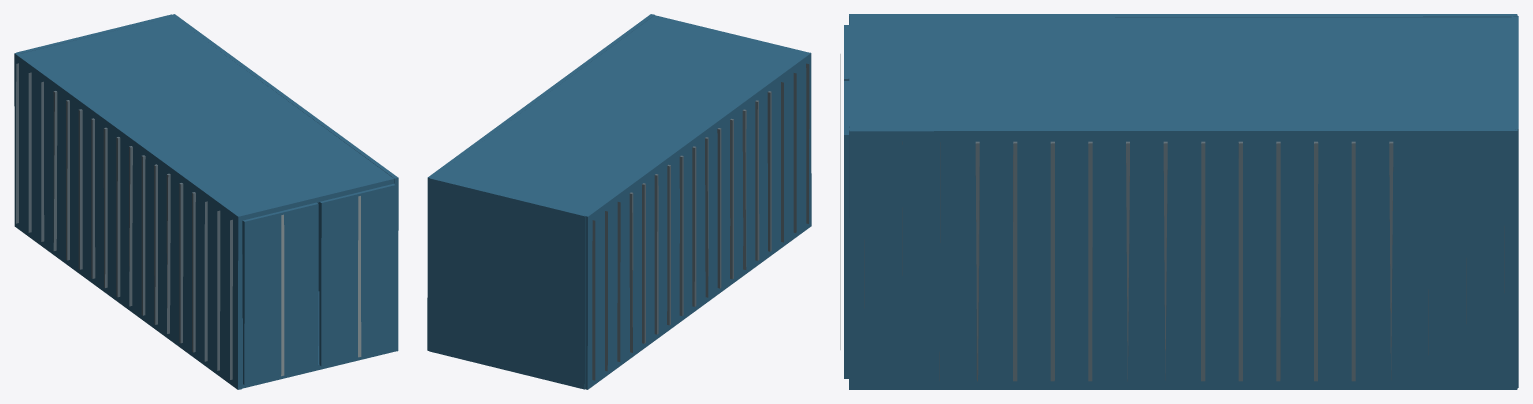
The model's file is props-container.lod2.glb.
3 renders of one model, left to right at view 1: azimuth 30°, elevation 25°; view 2: azimuth 150°, elevation 25°; view 3: azimuth 270°, elevation 25°, orthographic. The views are drawn at different scales.
Visible parts, largest first — view 1: props-container__body, props-container__door_-1, props-container__door_1; view 2: props-container__body; view 3: props-container__body, props-container__door_1.
Boxes of the visible parts, bbox=[...] form: props-container__body: bbox=[14, 14, 398, 389]; props-container__door_-1: bbox=[242, 202, 318, 384]; props-container__door_1: bbox=[319, 184, 395, 366]; props-container__body: bbox=[427, 14, 811, 389]; props-container__body: bbox=[849, 14, 1518, 389]; props-container__door_1: bbox=[840, 81, 849, 378].
Size of the model in its own units: 2.59 by 2.59 by 6.13.
